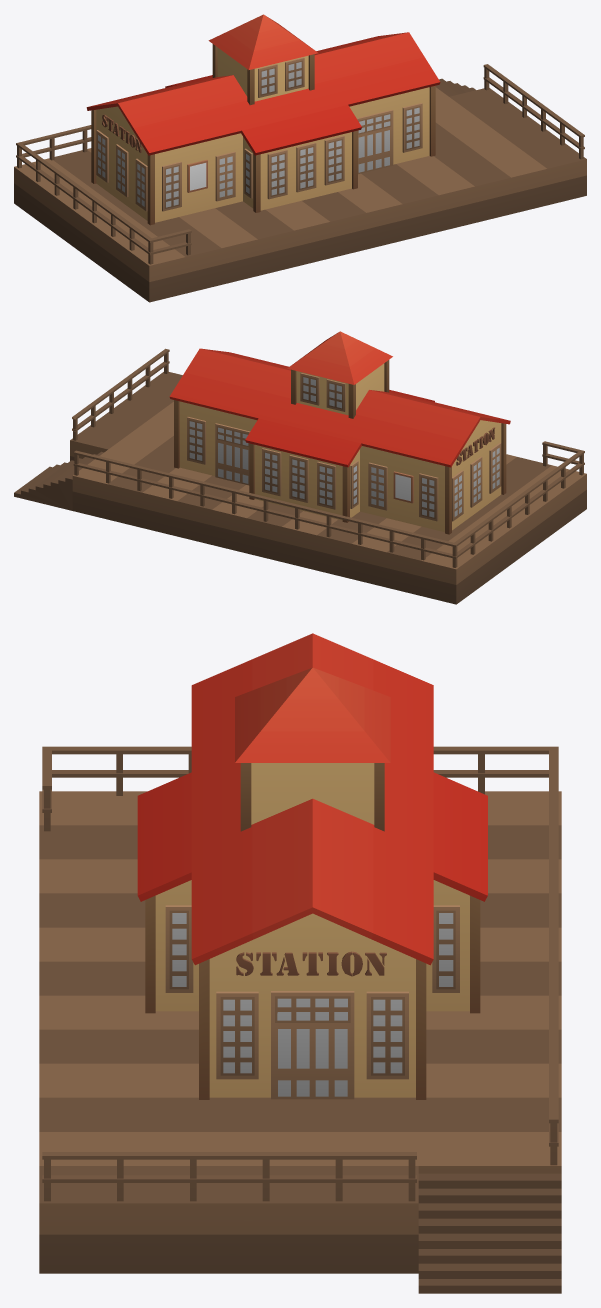
File: railway station.fbx
The picture shows the model from 3 angles, top to bottom: view 1: azimuth 30°, elevation 25°; view 2: azimuth 150°, elevation 25°; view 3: azimuth 270°, elevation 25°; orthographic projection. The views are drawn at different scales.
Parts seen in each view (by area): view 1: railway station; view 2: railway station; view 3: railway station.
Boxes of the visible parts, <box> form: railway station: <box>14,14,586,302</box>; railway station: <box>14,331,586,604</box>; railway station: <box>39,633,561,1293</box>.
Bounding box in the file's own units: 2381 × 948 × 1217.
